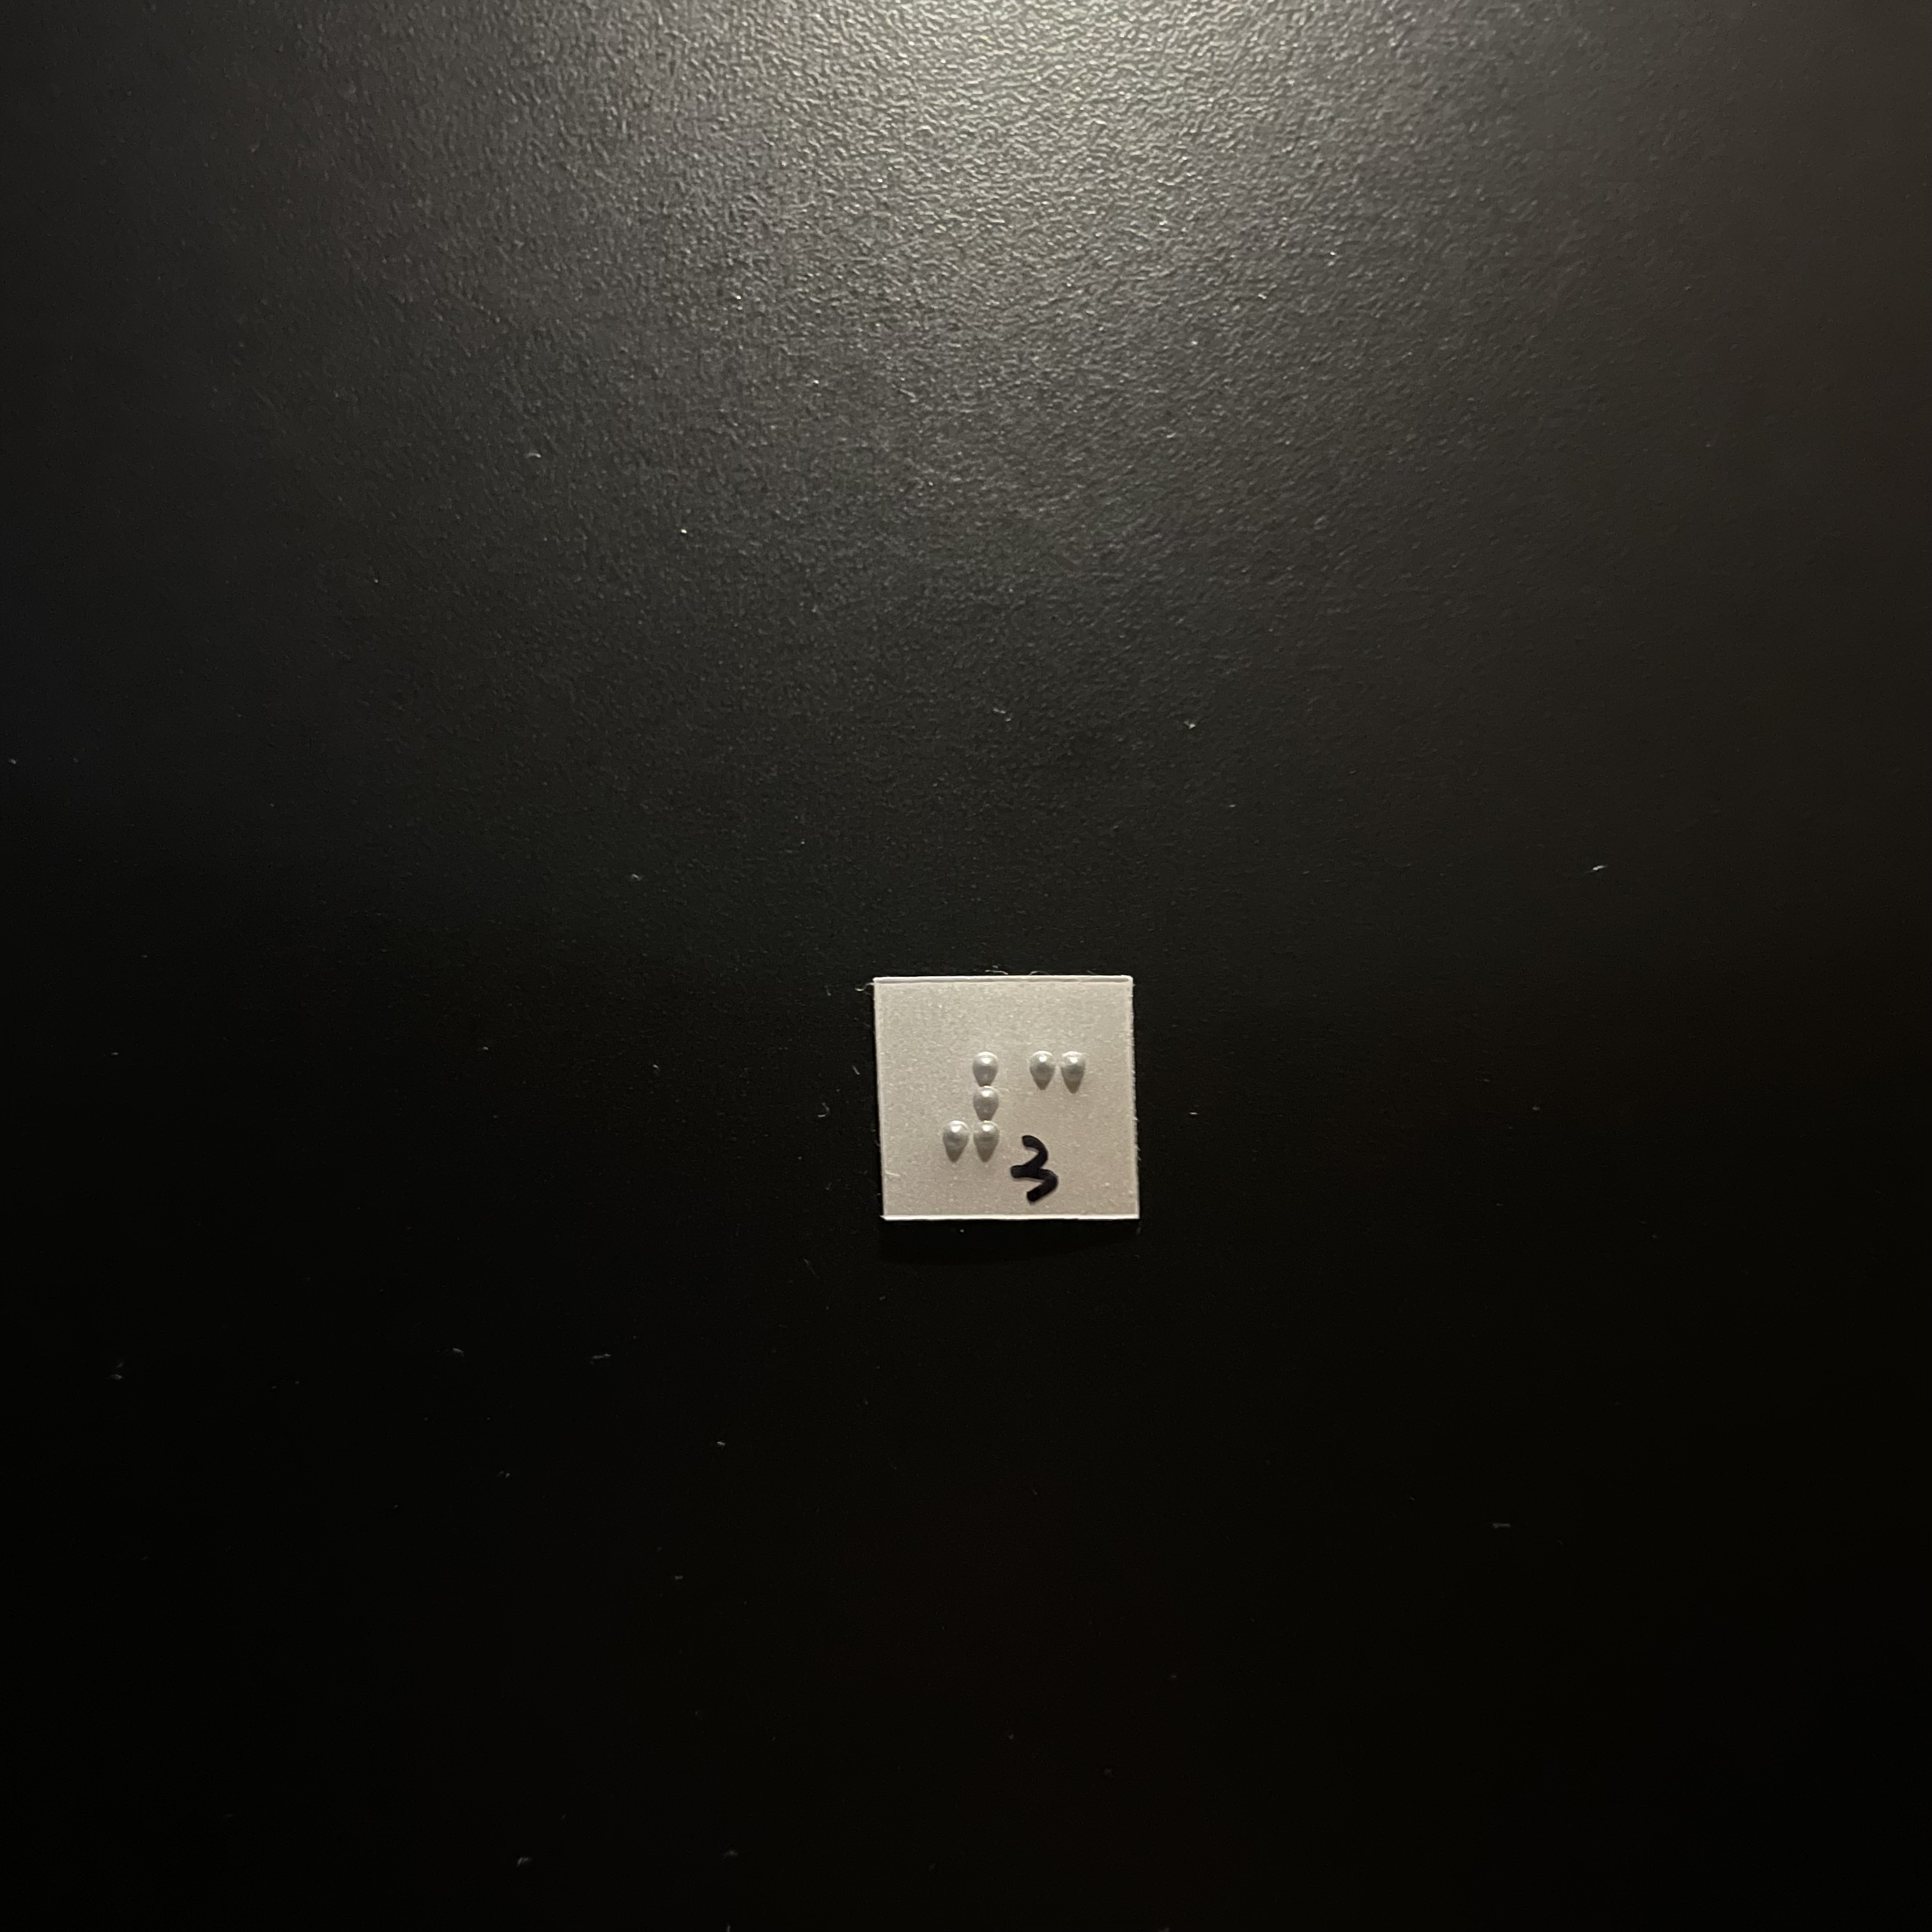#: (937, 1048, 1014, 1167)
c: (1023, 1051, 1095, 1167)
